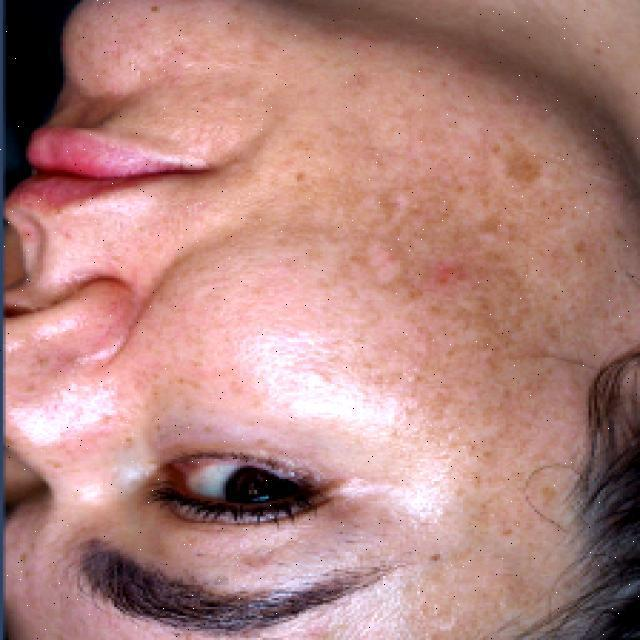Melasma: (286, 135, 592, 587)
